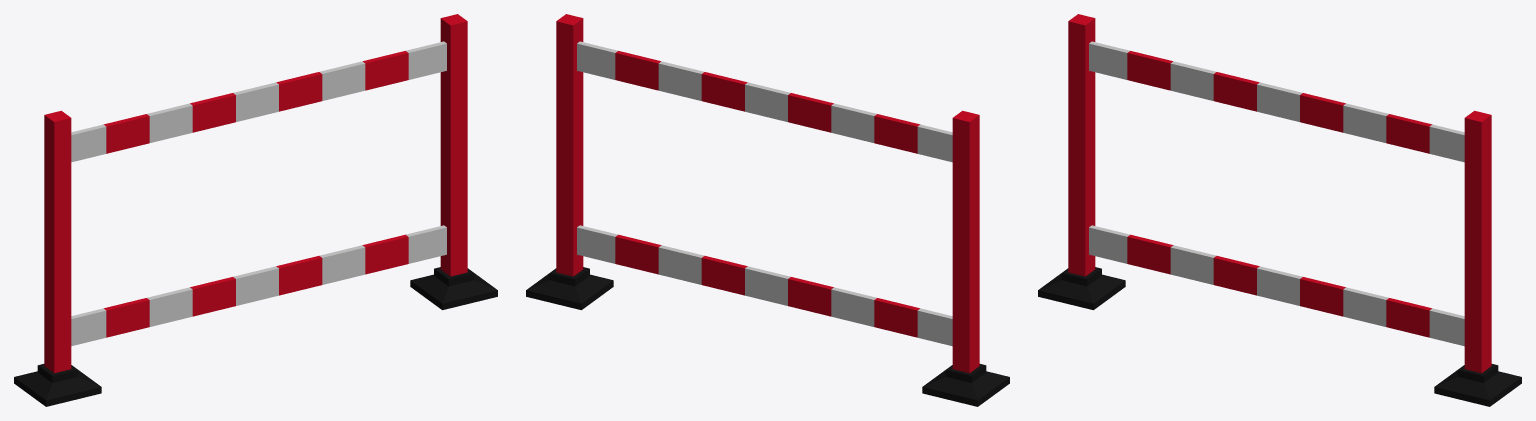
3 renders of one model, left to right at view 1: azimuth 30°, elevation 25°; view 2: azimuth 150°, elevation 25°; view 3: azimuth 330°, elevation 25°, orthographic.
Visible parts, largest first — view 1: Cube; view 2: Cube; view 3: Cube.
Part boxes in pixels (box(x1,y1,x2,y2)): Cube: box(14, 14, 497, 406); Cube: box(526, 14, 1009, 406); Cube: box(1038, 14, 1521, 406).
Bounding box in the file's own units: 32.77 × 18.86 × 4.03.
